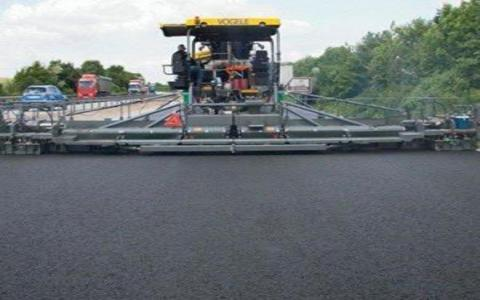Proper road: (12, 161, 476, 291)
